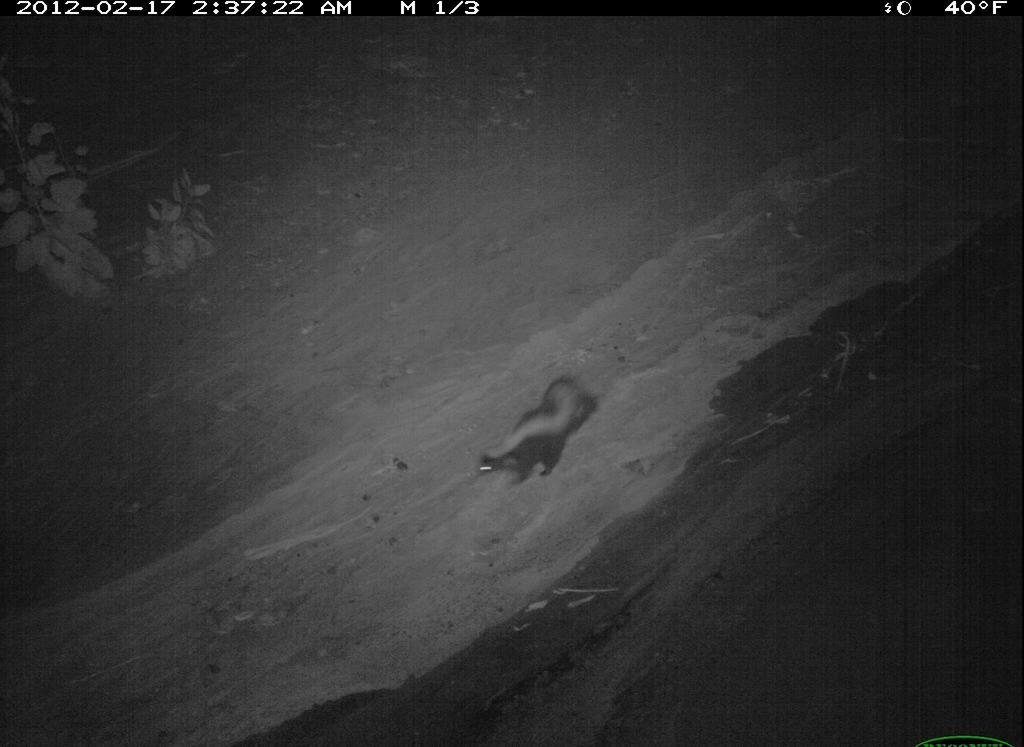skunk: (951, 740, 1024, 747)
